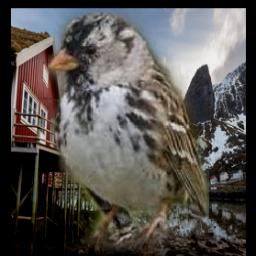Sparrow: (48, 12, 209, 254)
